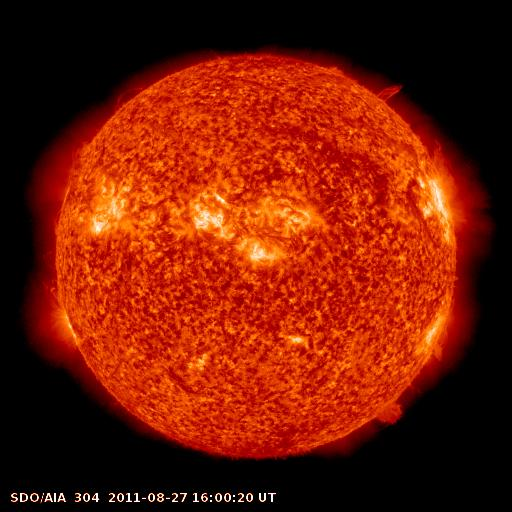prominence: (427, 126, 474, 205), (429, 293, 461, 366), (365, 393, 408, 431), (373, 69, 408, 107), (105, 82, 145, 114)
